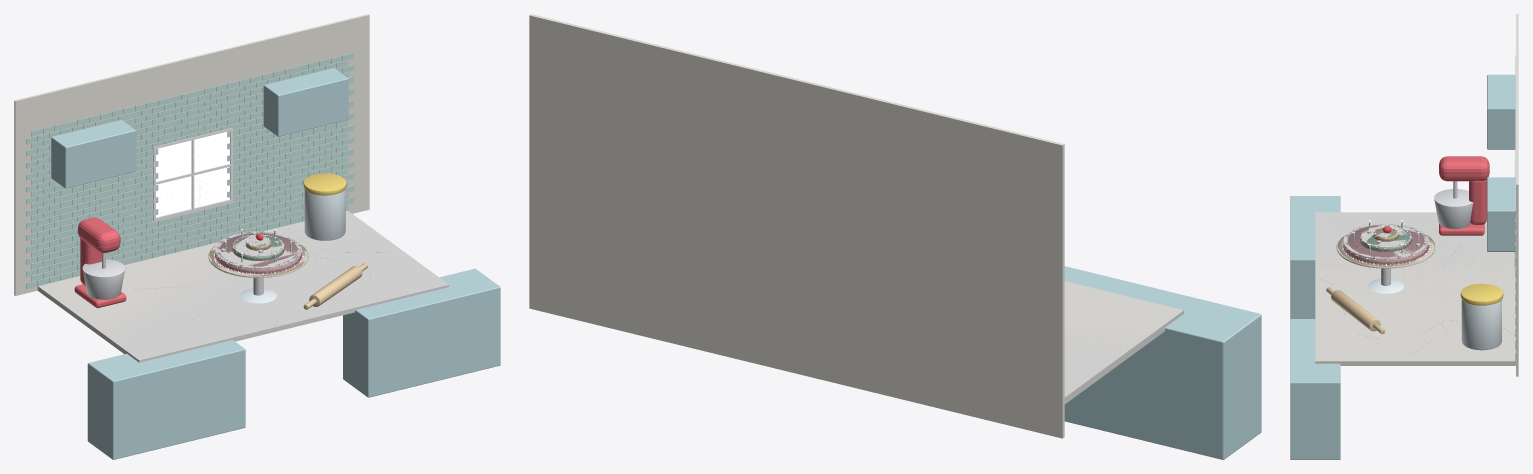
The model's file is cake.glb.
3 renders of one model, left to right at view 1: azimuth 30°, elevation 25°; view 2: azimuth 150°, elevation 25°; view 3: azimuth 270°, elevation 25°, orthographic. The views are drawn at different scales.
Visible parts, largest first — view 1: wall_tiles, wall, col_box_counter, cab_low, cab_low.001, counter, window, cabinet, cabinet.001, jar, mixer_bowl, mixer_head (+4 smaller); view 2: wall, cab_low, counter, col_box_counter; view 3: counter, col_box_counter, cab_low.001, cab_low, cabinet, cabinet.001, jar, mixer_bowl, mixer_head, tier1, wall, jar_lid (+11 smaller).
Part boxes in pixels (<box>): wall_tiles: <box>26,53,353,288</box>; wall: <box>14,14,369,295</box>; col_box_counter: <box>37,210,449,362</box>; cab_low: <box>87,340,245,459</box>; cab_low.001: <box>343,268,500,397</box>; counter: <box>37,212,448,362</box>; window: <box>156,132,229,217</box>; cabinet: <box>51,120,136,188</box>; cabinet.001: <box>263,68,348,136</box>; jar: <box>304,189,345,240</box>; mixer_bowl: <box>82,259,125,299</box>; mixer_head: <box>78,217,120,253</box>; wall: <box>529,14,1064,438</box>; cab_low: <box>1064,266,1261,459</box>; counter: <box>1064,281,1182,403</box>; col_box_counter: <box>1064,281,1184,404</box>; counter: <box>1316,215,1515,365</box>; col_box_counter: <box>1315,212,1515,365</box>; cab_low.001: <box>1290,319,1340,459</box>; cab_low: <box>1290,196,1340,318</box>; cabinet: <box>1487,74,1515,149</box>; cabinet.001: <box>1487,177,1515,251</box>; jar: <box>1461,299,1501,350</box>; mixer_bowl: <box>1434,189,1473,229</box>; mixer_head: <box>1439,156,1489,181</box>; tier1: <box>1343,225,1428,263</box>; wall: <box>1516,14,1518,376</box>; jar_lid: <box>1460,283,1503,305</box>.
Size of the model in its own units: 87.6 by 58.5 by 45.29.
